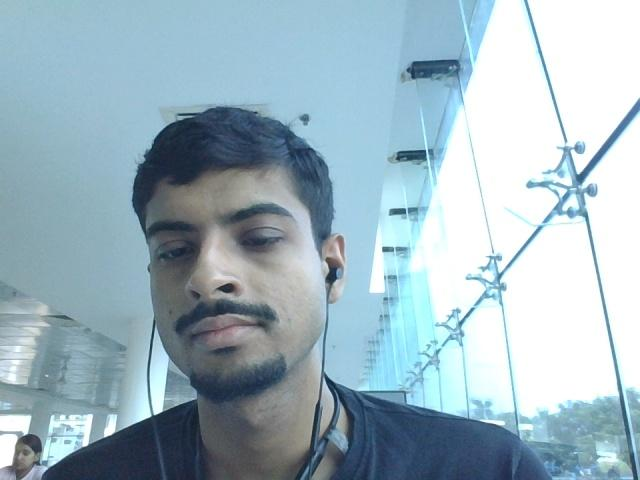nervous: (112, 100, 385, 425)
